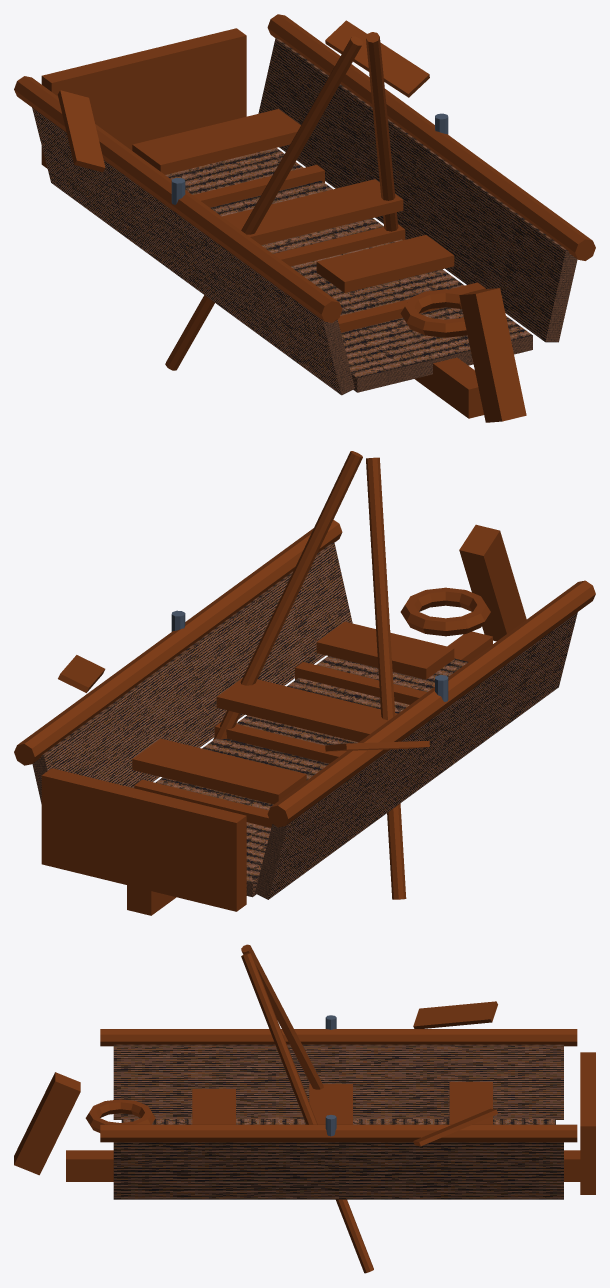
File: barca.glb
3 views of the same model, one above another, from view 1: azimuth 30°, elevation 25°; view 2: azimuth 150°, elevation 25°; view 3: azimuth 270°, elevation 25° (orthographic). The views are drawn at different scales.
Visible parts, largest first — view 1: Cube.004, Cube.003, Cube.002, Cube.005, Cylinder.002, Cylinder, Cube.011, Cube.001, Cube.010, Cube.009, Cylinder.004, Cylinder.005 (+7 smaller); view 2: Cube.004, Cube.005, Cube.003, Cylinder, Cylinder.002, Cube.002, Cube.011, Cube.010, Cylinder.004, Cube.001, Cylinder.005, Cube.009 (+7 smaller); view 3: Cube.003, Cube.004, Cylinder.002, Cylinder, Cube.001, Cylinder.005, Cube.005, Cube, Cube.012, Cube.002, Cube.011, Cube.009 (+4 smaller).
Part boxes in pixels (box(x1,y1,x2,y2)): Cube.004: box(258, 38, 577, 342); Cube.003: box(32, 107, 354, 395); Cube.002: box(165, 148, 532, 392); Cube.005: box(41, 28, 246, 168); Cylinder.002: box(267, 14, 595, 260); Cylinder: box(14, 76, 342, 322); Cube.011: box(132, 109, 300, 174); Cube.001: box(459, 288, 526, 422); Cube.010: box(222, 179, 403, 245); Cube.009: box(316, 235, 454, 292); Cylinder.004: box(165, 36, 362, 370); Cylinder.005: box(366, 32, 398, 231); Cube.004: box(32, 543, 352, 803); Cube.005: box(41, 768, 246, 911); Cube.003: box(255, 612, 577, 899); Cylinder: box(267, 580, 595, 827); Cylinder.002: box(14, 520, 342, 765); Cube.002: box(155, 656, 468, 897); Cube.011: box(132, 738, 306, 804); Cube.010: box(216, 678, 397, 742); Cylinder.004: box(366, 457, 406, 899); Cube.001: box(459, 524, 526, 641); Cylinder.005: box(213, 451, 362, 739); Cube.009: box(316, 621, 454, 679); Cube.003: box(113, 1044, 563, 1119); Cube.004: box(113, 1142, 563, 1199); Cylinder.002: box(100, 1124, 577, 1142); Cylinder: box(100, 1029, 577, 1046); Cube.001: box(14, 1072, 80, 1175); Cylinder.005: box(241, 952, 373, 1273); Cube.005: box(580, 1052, 595, 1194); Cube: box(66, 1150, 580, 1181); Cube.012: box(413, 1001, 497, 1028); Cube.002: box(121, 1119, 555, 1124); Cube.011: box(449, 1082, 492, 1124); Cube.009: box(192, 1089, 235, 1124).
Bounding box in the file's own units: 2.04 × 1.99 × 3.73.
4 materials, 1 textured.
